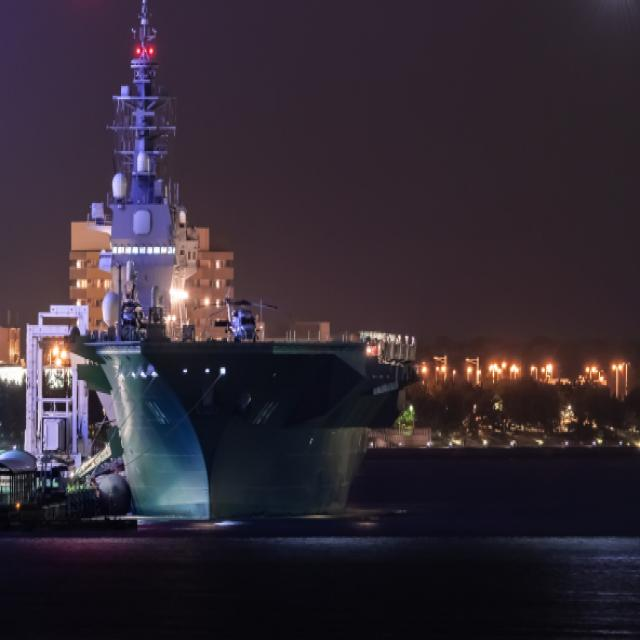Portanaves: (63, 1, 423, 539)
